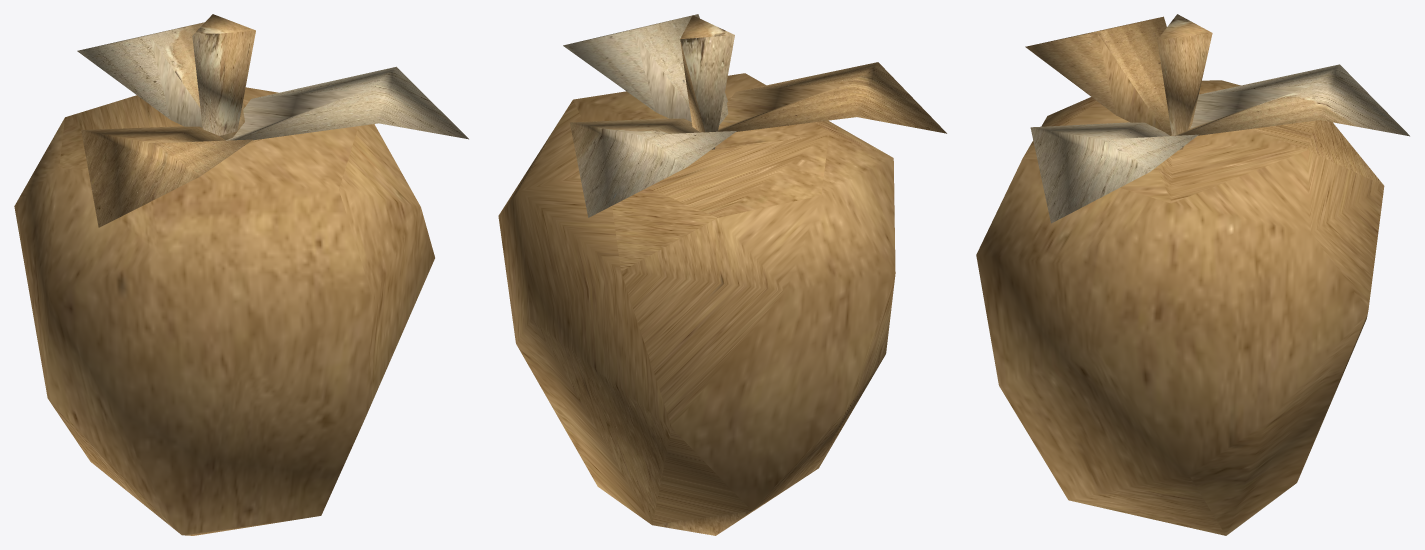
File: CardBoardStrawberryBullet.fbx
3 renders of one model, left to right at view 1: azimuth 30°, elevation 25°; view 2: azimuth 150°, elevation 25°; view 3: azimuth 270°, elevation 25°, orthographic. The views are drawn at different scales.
Visible parts, largest first — view 1: CardBoardStrawberryBullet; view 2: CardBoardStrawberryBullet; view 3: CardBoardStrawberryBullet.
Part boxes in pixels (x1,y1,x2,y2): CardBoardStrawberryBullet: (14, 14, 468, 535); CardBoardStrawberryBullet: (498, 14, 946, 535); CardBoardStrawberryBullet: (976, 14, 1409, 535).
Bounding box in the file's own units: 15.85 × 20.9 × 16.4.
1 material, 1 textured.
